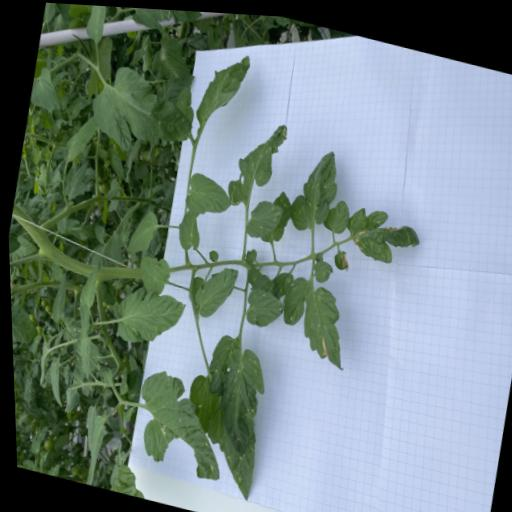Healthy: (83, 58, 200, 166), (189, 41, 253, 133), (108, 281, 186, 354), (187, 257, 237, 322), (180, 167, 233, 220), (60, 109, 99, 168), (78, 413, 107, 487), (122, 203, 160, 257), (131, 251, 171, 297), (86, 227, 126, 272), (27, 65, 65, 112), (39, 354, 67, 409), (9, 300, 40, 348), (73, 257, 100, 309), (44, 269, 68, 325), (318, 192, 350, 233), (81, 4, 113, 43), (63, 156, 87, 204), (71, 333, 94, 378), (76, 403, 95, 449), (104, 149, 127, 180), (113, 364, 129, 395), (41, 2, 62, 24), (95, 364, 111, 386), (89, 223, 104, 243)
Leaf_Miner: (219, 108, 289, 214), (147, 30, 195, 84), (130, 6, 206, 38), (151, 417, 168, 439)
